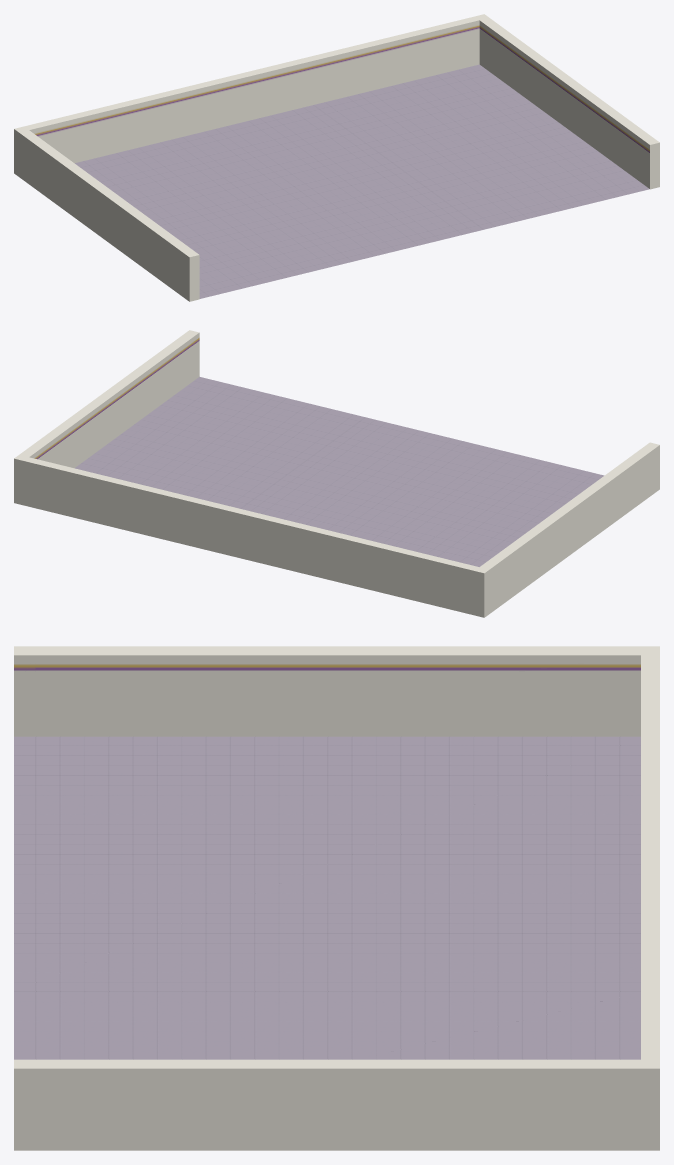
The model's file is Level1_RoomNoWall.fbx.
3 renders of one model, top to bottom at view 1: azimuth 30°, elevation 25°; view 2: azimuth 150°, elevation 25°; view 3: azimuth 270°, elevation 25°, orthographic. The views are drawn at different scales.
Visible parts, largest first — view 1: polySurface170; view 2: polySurface170; view 3: polySurface170.
Part boxes in pixels (x1=…): polySurface170: x1=14, y1=14, x2=659, y2=301; polySurface170: x1=14, y1=330, x2=659, y2=617; polySurface170: x1=14, y1=646, x2=659, y2=1150.
Bounding box in the file's own units: 1388 × 126 × 897.
Materials: 2 (2 with a texture image).
